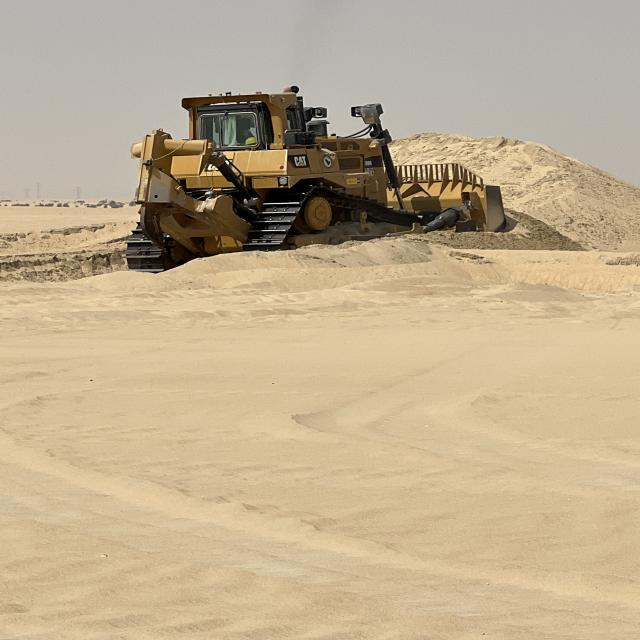Bulldozer: (118, 79, 503, 278)
